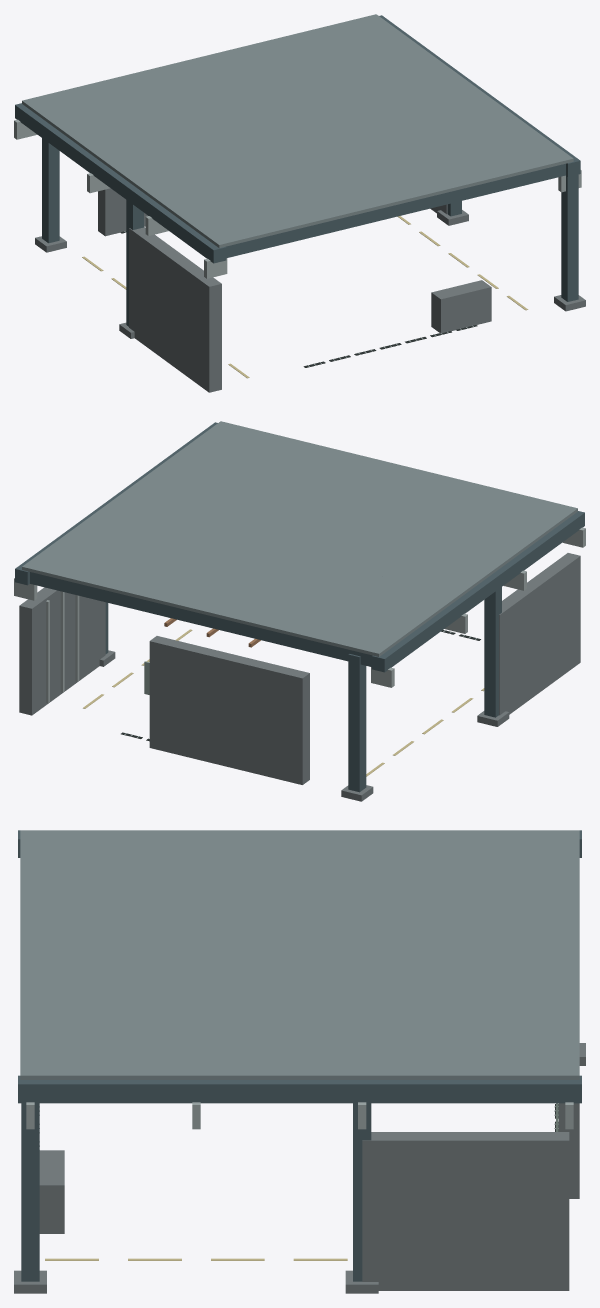
File: induction-hall.glb
3 views of the same model, one above another, from view 1: azimuth 30°, elevation 25°; view 2: azimuth 150°, elevation 25°; view 3: azimuth 270°, elevation 25° (orthographic). The views are drawn at different scales.
Visible parts, largest first — view 1: induction-hall; view 2: induction-hall; view 3: induction-hall.
Boxes of the visible parts, x1,y1,x2,y2 form: induction-hall: (14,14,585,392); induction-hall: (14,421,585,801); induction-hall: (14,830,585,1293).
Size of the model in its own units: 14.8 by 5.62 by 13.8.
